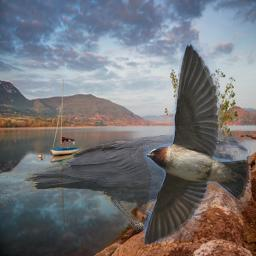Crow: (22, 128, 251, 234)
Swallow: (143, 43, 251, 246)
